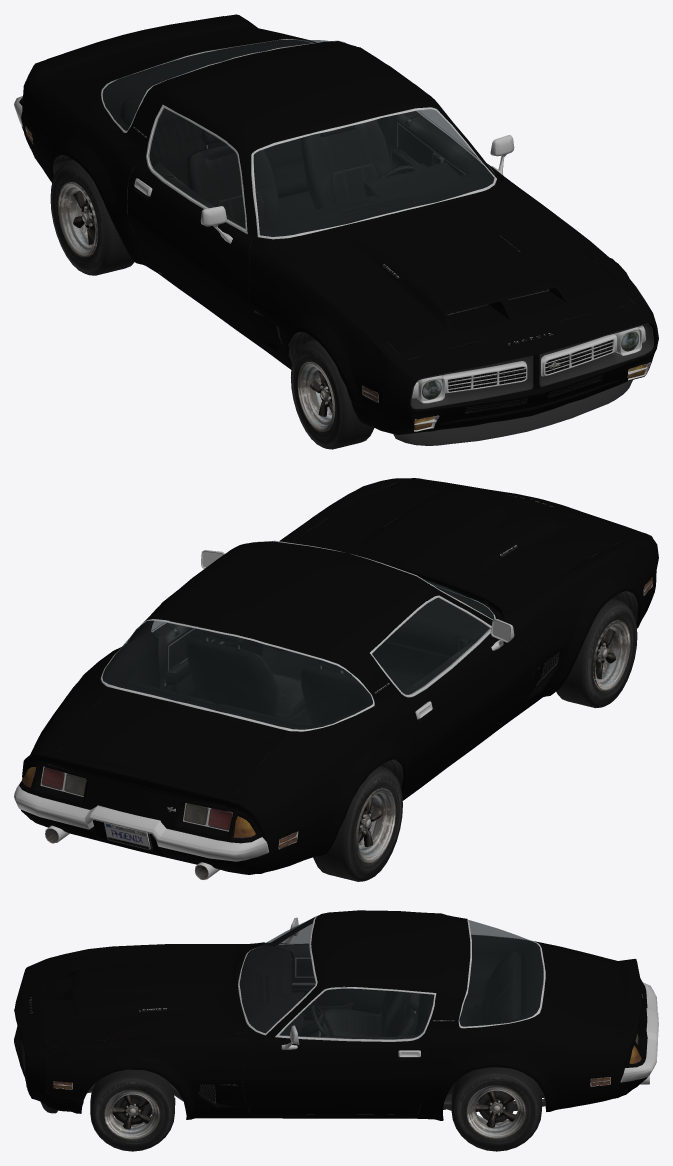
Rendered from american_muscle-transformed.glb.
The picture shows the model from 3 angles, top to bottom: view 1: azimuth 30°, elevation 25°; view 2: azimuth 150°, elevation 25°; view 3: azimuth 270°, elevation 25°; orthographic projection. The views are drawn at different scales.
Visible parts, largest first — view 1: Body_body_0, Hood_body_0, Windshield_UCB_GLASS_CLEAN_0, Seats_GEN4DR_INTERIOR_0, Door_FR_body_0, Grill_UCB_BOTTOM_0, Doorglass_FR_UCB_GLASS_CLEAN_0, Trunkdoor_body_0, Dashboard_GEN4DR_INTERIOR_0, Wheel_RR_RIMMUSCLE_01_0, Wheel_FR_RIMMUSCLE_01_0, Interior_GEN4DR_INTERIOR_0 (+7 smaller); view 2: Body_body_0, Hood_body_0, Glass_rear_UCB_GLASS_CLEAN_0, Trunkdoor_body_0, Door_FR_body_0, Seats_GEN4DR_INTERIOR_0, Interior_GEN4DR_INTERIOR_0, Doorglass_FR_UCB_GLASS_CLEAN_0, Wheel_RR_RIMMUSCLE_01_0, Wheel_FR_RIMMUSCLE_01_0, Bumper_rear, Dashboard_GEN4DR_INTERIOR_0 (+9 smaller); view 3: Body_body_0, Hood_body_0, Door_FL_body_0, Glass_rear_UCB_GLASS_CLEAN_0, Doorglass_FL_UCB_GLASS_CLEAN_0, Wheel_RL_RIMMUSCLE_01_0, Seats_GEN4DR_INTERIOR_0, Trunkdoor_body_0, Windshield_UCB_GLASS_CLEAN_0, Wheel_FL_RIMMUSCLE_01_0, Interior_GEN4DR_INTERIOR_0, Dashboard_GEN4DR_INTERIOR_0 (+8 smaller).
Boxes of the visible parts, bbox=[...] form: Body_body_0: bbox=[19, 14, 658, 434]; Hood_body_0: bbox=[273, 184, 634, 360]; Windshield_UCB_GLASS_CLEAN_0: bbox=[254, 109, 494, 236]; Seats_GEN4DR_INTERIOR_0: bbox=[120, 96, 392, 228]; Door_FR_body_0: bbox=[127, 157, 258, 344]; Grill_UCB_BOTTOM_0: bbox=[410, 323, 653, 409]; Doorglass_FR_UCB_GLASS_CLEAN_0: bbox=[148, 108, 245, 229]; Trunkdoor_body_0: bbox=[47, 16, 277, 81]; Dashboard_GEN4DR_INTERIOR_0: bbox=[256, 162, 494, 239]; Wheel_RR_RIMMUSCLE_01_0: bbox=[50, 160, 134, 275]; Wheel_FR_RIMMUSCLE_01_0: bbox=[290, 340, 374, 449]; Interior_GEN4DR_INTERIOR_0: bbox=[102, 39, 491, 342]; Body_body_0: bbox=[19, 478, 658, 874]; Hood_body_0: bbox=[291, 481, 634, 611]; Glass_rear_UCB_GLASS_CLEAN_0: bbox=[103, 621, 372, 729]; Trunkdoor_body_0: bbox=[46, 696, 278, 806]; Door_FR_body_0: bbox=[401, 628, 535, 795]; Seats_GEN4DR_INTERIOR_0: bbox=[126, 627, 374, 731]; Interior_GEN4DR_INTERIOR_0: bbox=[102, 620, 448, 729]; Doorglass_FR_UCB_GLASS_CLEAN_0: bbox=[372, 598, 490, 694]; Wheel_RR_RIMMUSCLE_01_0: bbox=[313, 766, 402, 881]; Wheel_FR_RIMMUSCLE_01_0: bbox=[556, 599, 637, 708]; Bumper_rear: bbox=[14, 782, 268, 861]; Dashboard_GEN4DR_INTERIOR_0: bbox=[384, 583, 493, 657]; Body_body_0: bbox=[14, 910, 647, 1120]; Hood_body_0: bbox=[42, 945, 249, 1048]; Door_FL_body_0: bbox=[243, 1034, 429, 1114]; Glass_rear_UCB_GLASS_CLEAN_0: bbox=[459, 920, 543, 1026]; Doorglass_FL_UCB_GLASS_CLEAN_0: bbox=[279, 989, 433, 1039]; Wheel_RL_RIMMUSCLE_01_0: bbox=[451, 1067, 541, 1151]; Seats_GEN4DR_INTERIOR_0: bbox=[321, 951, 521, 1070]; Trunkdoor_body_0: bbox=[550, 949, 641, 1031]; Windshield_UCB_GLASS_CLEAN_0: bbox=[240, 917, 315, 1032]; Wheel_FL_RIMMUSCLE_01_0: bbox=[90, 1069, 174, 1151]; Interior_GEN4DR_INTERIOR_0: bbox=[243, 917, 543, 1103]; Dashboard_GEN4DR_INTERIOR_0: bbox=[239, 945, 304, 1035].
Size of the model in its own units: 2.09 by 1.33 by 4.89.
8 materials, 7 textured.
